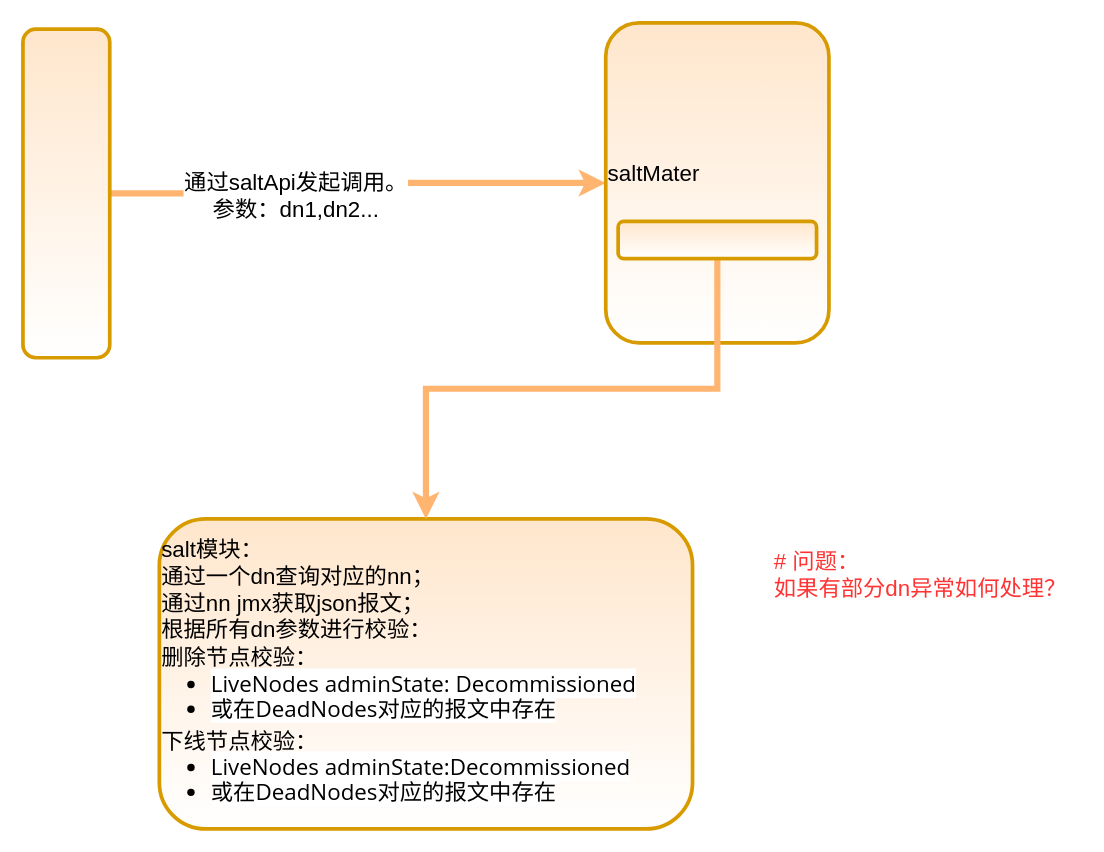
This 1104x852 diagram has some shape labels left out. Here are the shapes that lost their labels. From the top down, the centre of each, then its label:
(65,193): 鲲鹏
(717,239): salt模块（新增）
